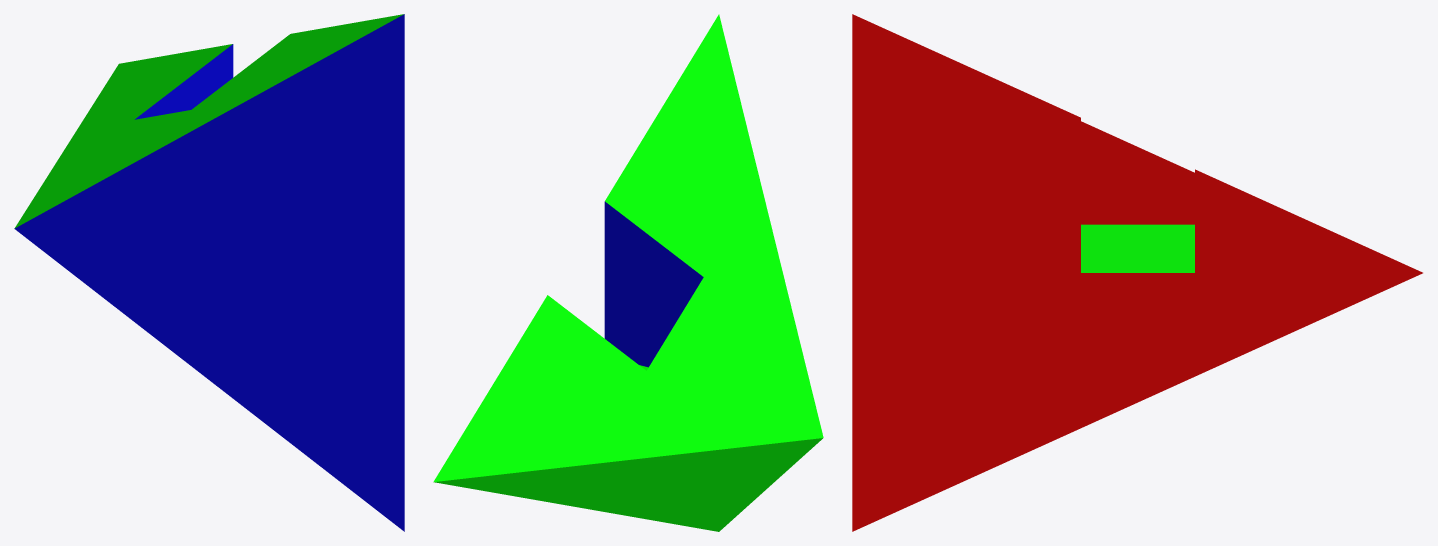
File: ConnectionMaster.obj
3 renders of one model, left to right at view 1: azimuth 30°, elevation 25°; view 2: azimuth 150°, elevation 25°; view 3: azimuth 270°, elevation 25°, orthographic.
Visible parts, largest first — view 1: object_9, object_11, object_10, object_13, object_12, object_1; view 2: object_11, object_10, object_13, object_14, object_12, object_2; view 3: object_5, object_4, object_6, object_3, object_7, object_8.
Part boxes in pixels (x1=…): object_9: x1=14, y1=14, x2=404, y2=531; object_11: x1=15, y1=100, x2=247, y2=227; object_10: x1=192, y1=14, x2=403, y2=109; object_13: x1=14, y1=64, x2=133, y2=228; object_12: x1=119, y1=44, x2=232, y2=119; object_1: x1=135, y1=44, x2=233, y2=119; object_11: x1=647, y1=184, x2=823, y2=437; object_10: x1=605, y1=14, x2=760, y2=276; object_13: x1=434, y1=371, x2=822, y2=481; object_14: x1=433, y1=438, x2=822, y2=531; object_12: x1=433, y1=295, x2=646, y2=481; object_2: x1=604, y1=201, x2=703, y2=367; object_5: x1=852, y1=14, x2=1080, y2=531; object_4: x1=852, y1=273, x2=1422, y2=531; object_6: x1=852, y1=14, x2=1080, y2=272; object_3: x1=1195, y1=169, x2=1422, y2=272; object_7: x1=1081, y1=121, x2=1194, y2=224; object_8: x1=1081, y1=224, x2=1194, y2=272.
Size of the model in its own units: 10 by 20 by 20.
